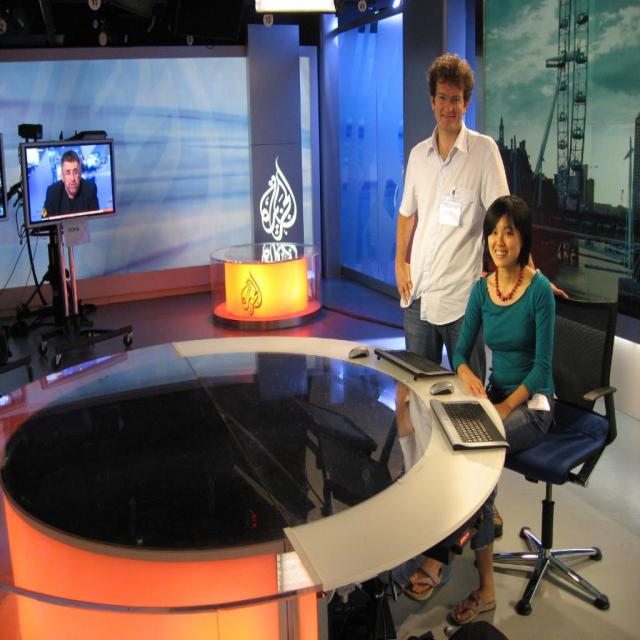chair: (500, 292, 619, 616)
desk: (0, 336, 509, 639)
laptop: (430, 390, 508, 451), (374, 347, 452, 378)
mouse: (430, 381, 454, 396)
person: (439, 202, 554, 612), (394, 53, 510, 367)
tv: (21, 138, 117, 228)
